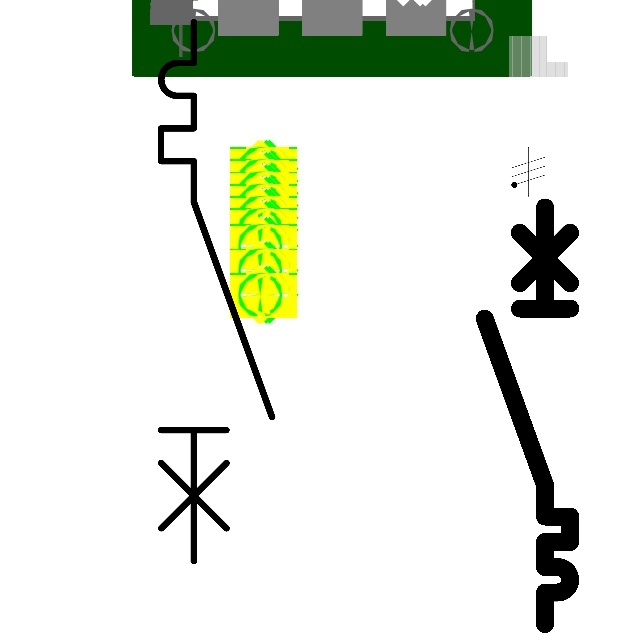interruptor_termomagnetico: (147, 8, 285, 575), (474, 196, 581, 634)
